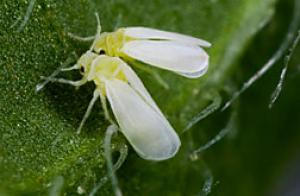whitefly: (45, 50, 183, 163), (69, 12, 211, 79)
